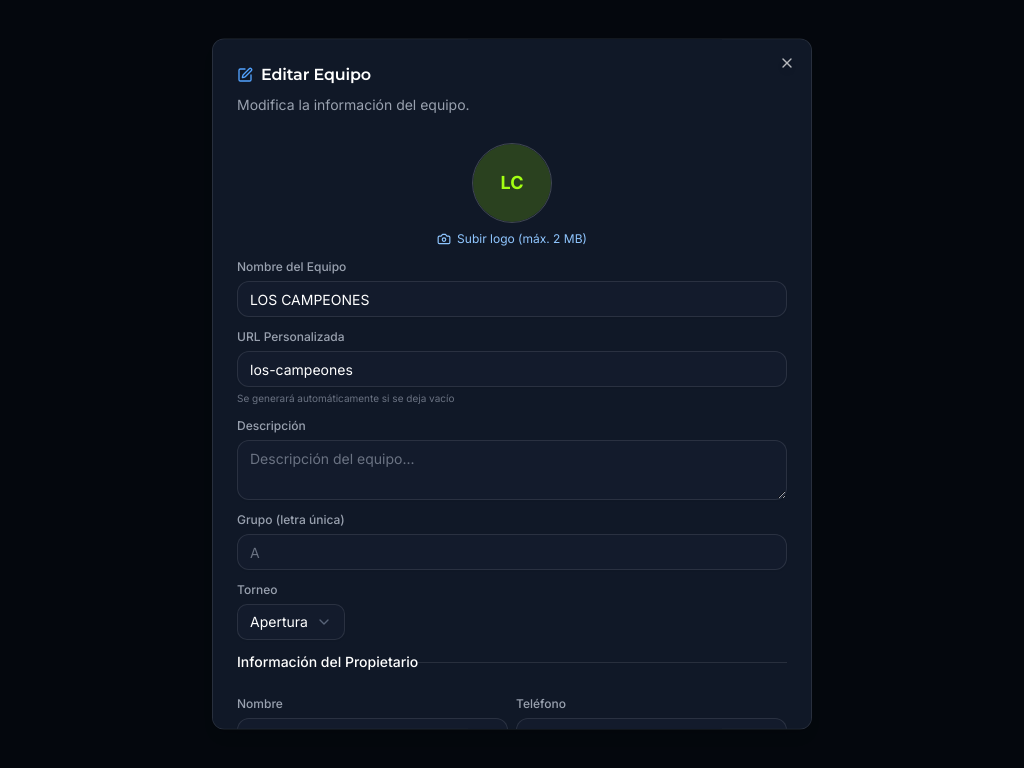
Test: edit team tournament and owner › changes the URL (slug) only when edited and shows the duplicate error on 422
Step 1. Replace the text in the field labelled "URL Personalizada" with "Campeones-FC" → (512, 369), box [237, 351, 787, 387]
(page scrolled)
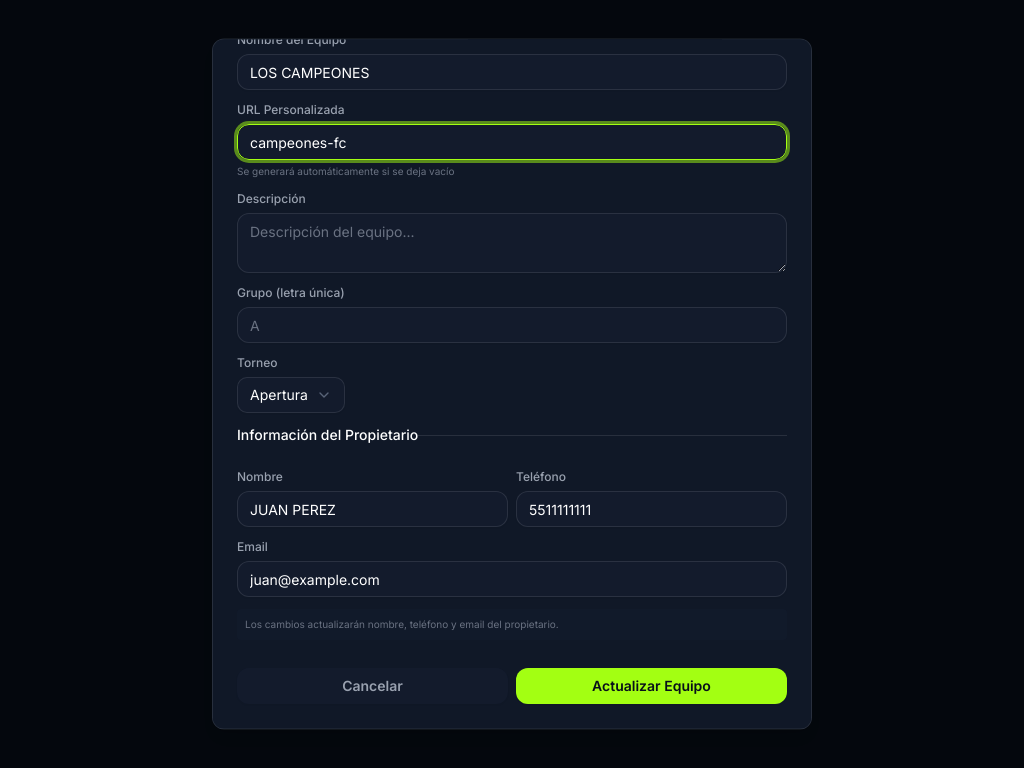
Step 2. Click the button "Actualizar Equipo" → (652, 686), box [516, 668, 787, 704]
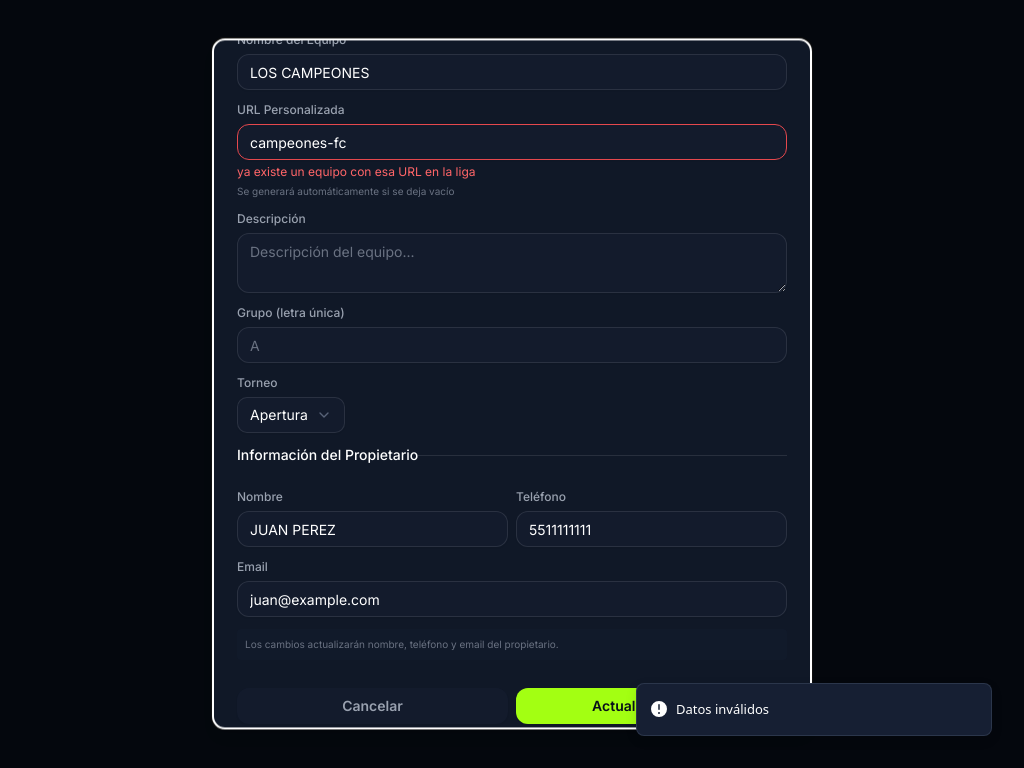
Expected: the text "ya existe un equipo con esa URL en la liga" is shown, [237, 164, 476, 179]
